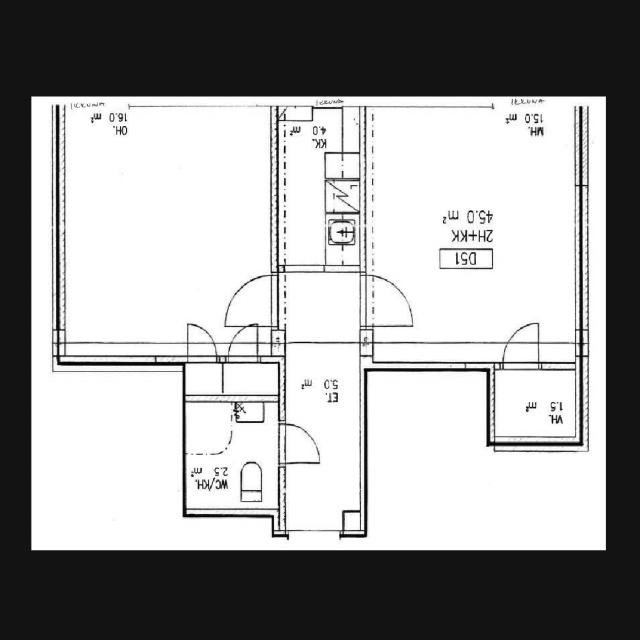door: (288, 530, 340, 594), (226, 275, 278, 326), (360, 276, 409, 326), (502, 321, 539, 369), (278, 424, 320, 462), (228, 324, 257, 362), (188, 324, 216, 362)
